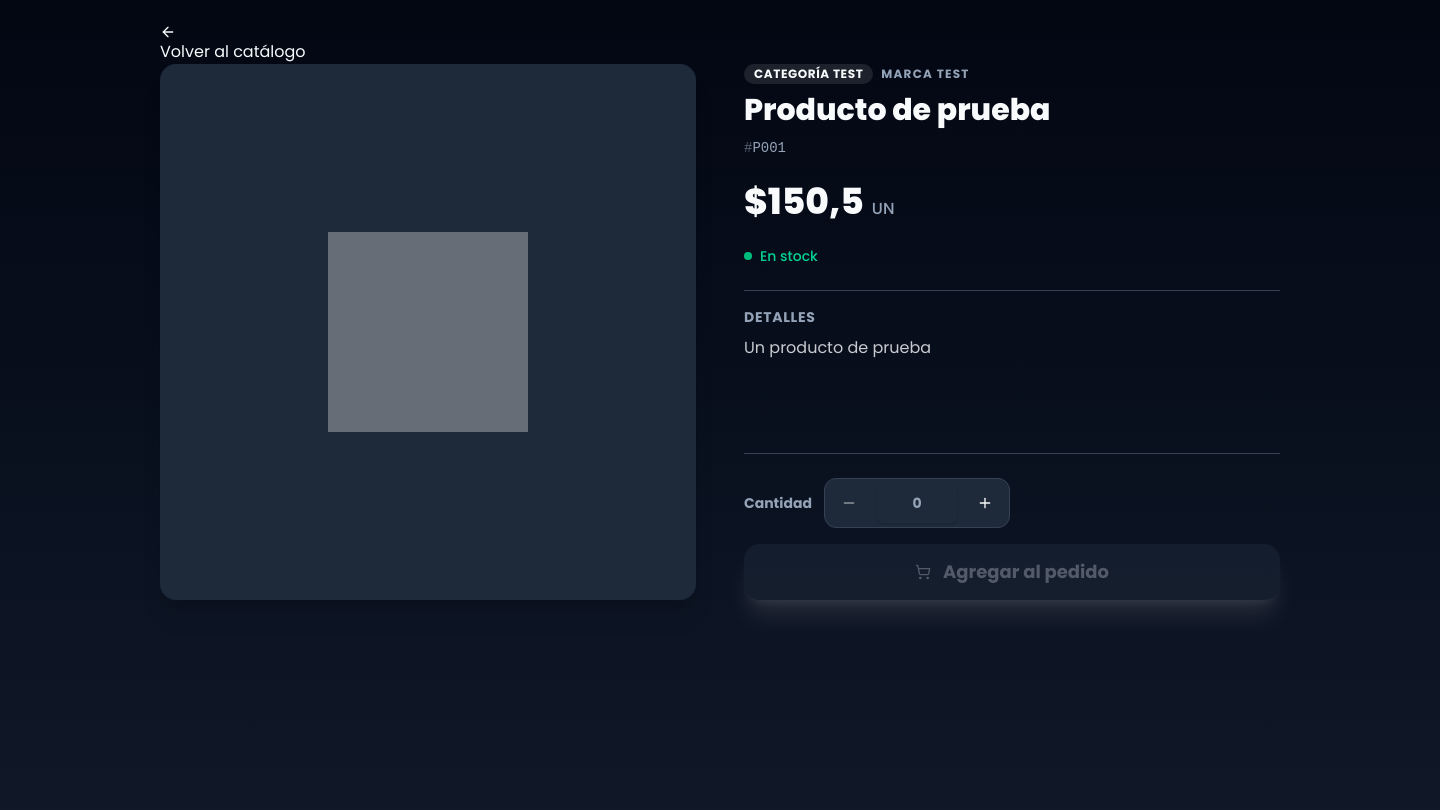
Test case: ProductDetail — multi-image carousel › should enable add-to-cart button when quantity is greater than 0
Click the button named "Aumentar cantidad" at (985, 503), box [965,483,1005,523]
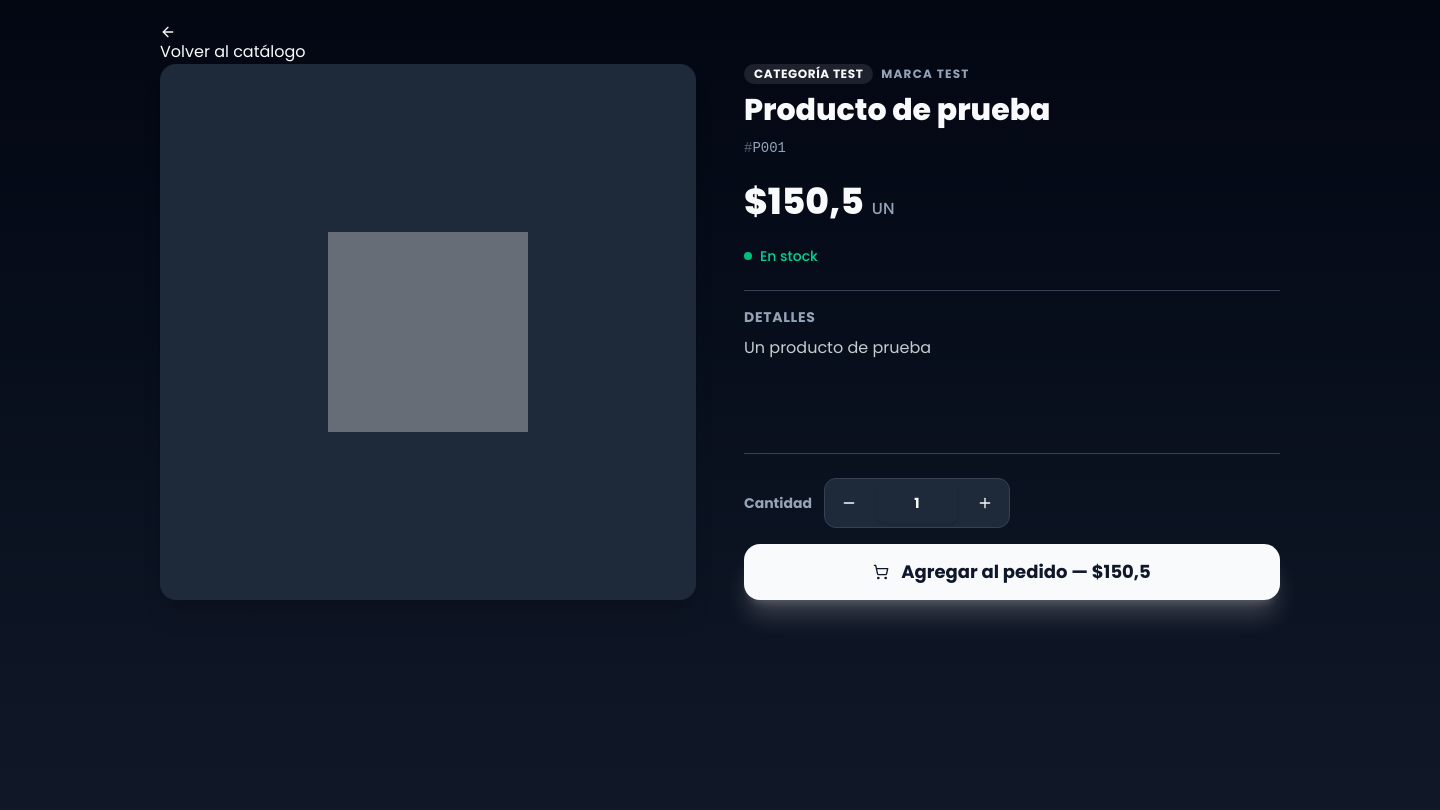
Expected: the button "Agregar al pedido — $150,5" is enabled, [744,544,1280,600]
